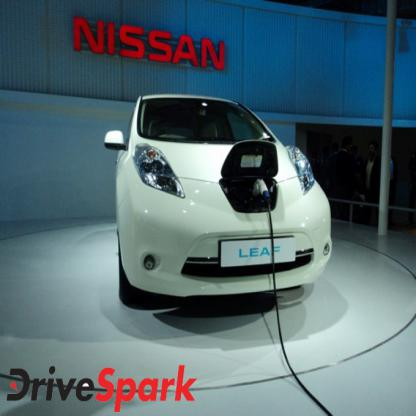Vehicle: (102, 92, 335, 309)
